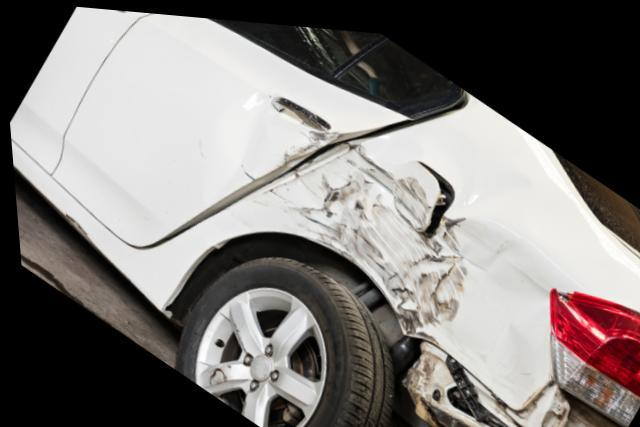dent: (305, 144, 552, 363), (228, 97, 336, 171)
dislocated part: (395, 330, 622, 427)
